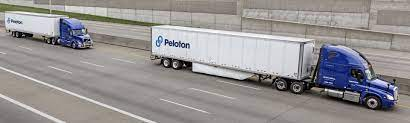truck: (150, 24, 398, 112), (4, 10, 92, 50)
